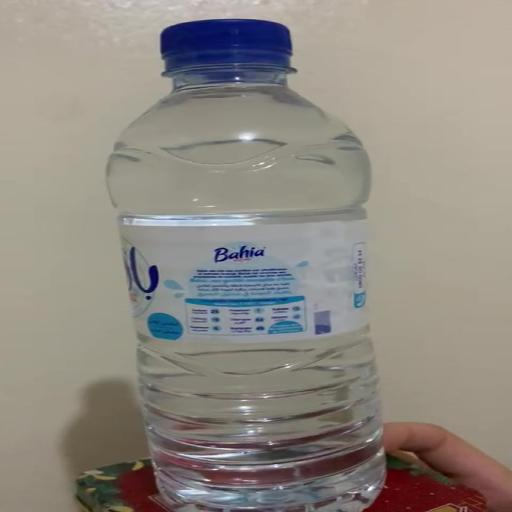bouteille conformite: (109, 68, 384, 511)
